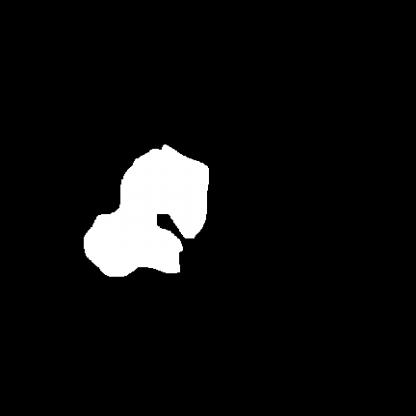malignant: (80, 132, 214, 287)
